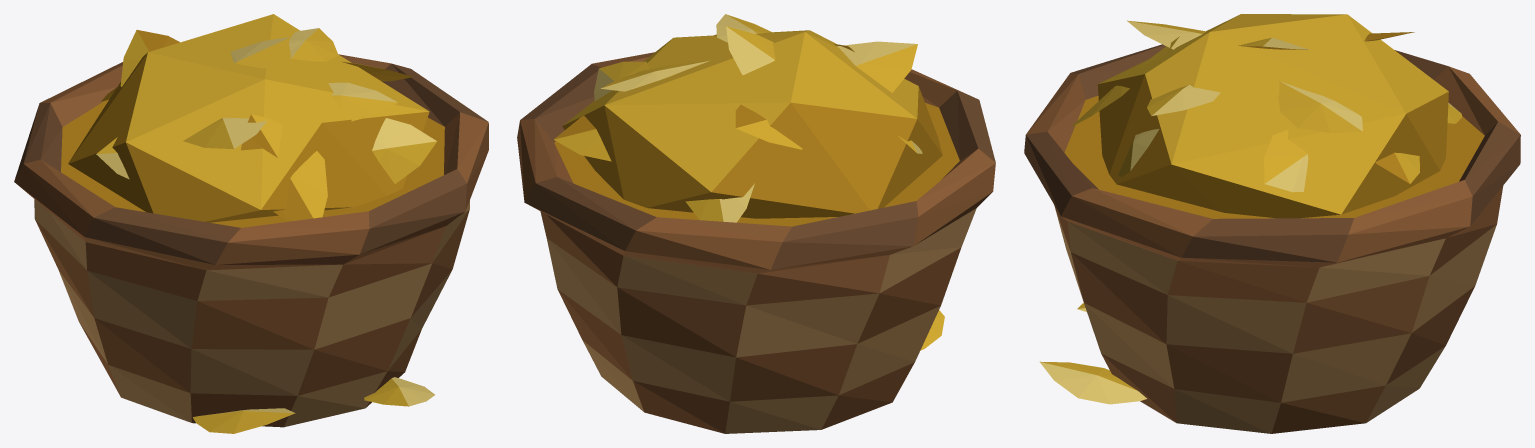
The model's file is leaf_basket.glb.
3 renders of one model, left to right at view 1: azimuth 30°, elevation 25°; view 2: azimuth 150°, elevation 25°; view 3: azimuth 270°, elevation 25°, orthographic. The views are drawn at different scales.
Visible parts, largest first — view 1: leaf_basket; view 2: leaf_basket; view 3: leaf_basket.
Boxes of the visible parts, bbox=[...] form: leaf_basket: bbox=[14, 14, 488, 433]; leaf_basket: bbox=[517, 14, 995, 433]; leaf_basket: bbox=[1024, 14, 1520, 433].
Size of the model in its own units: 0.8326 by 0.6399 by 0.8481.
